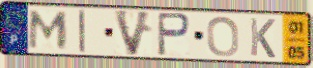I: (77, 8, 88, 55)
K: (248, 16, 277, 60)
M: (27, 9, 71, 51)
O: (206, 15, 241, 59)
P: (156, 11, 192, 58)
V: (112, 8, 154, 58)
